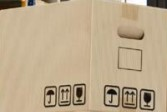stock: (1, 1, 167, 111)
